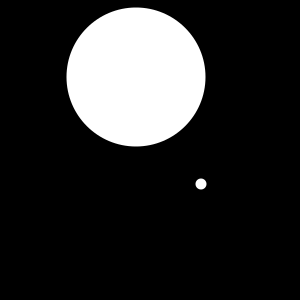rectangle: (66, 7, 205, 146), (196, 178, 206, 189)
